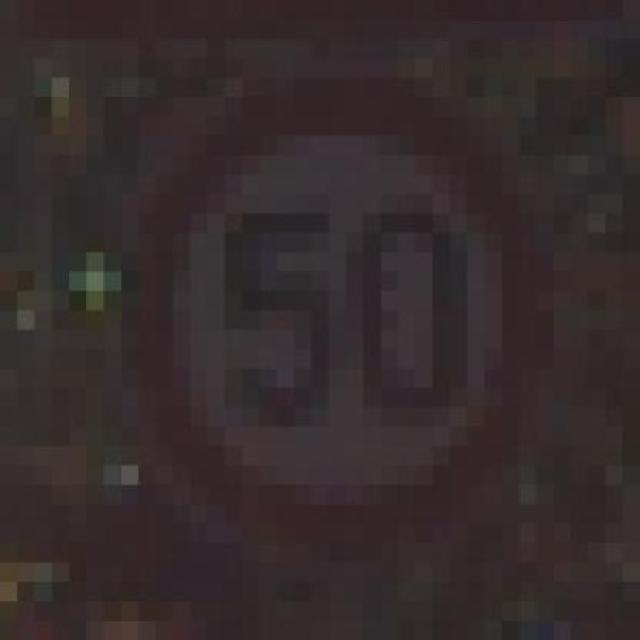forb_speed_over_50: (130, 93, 538, 555)
